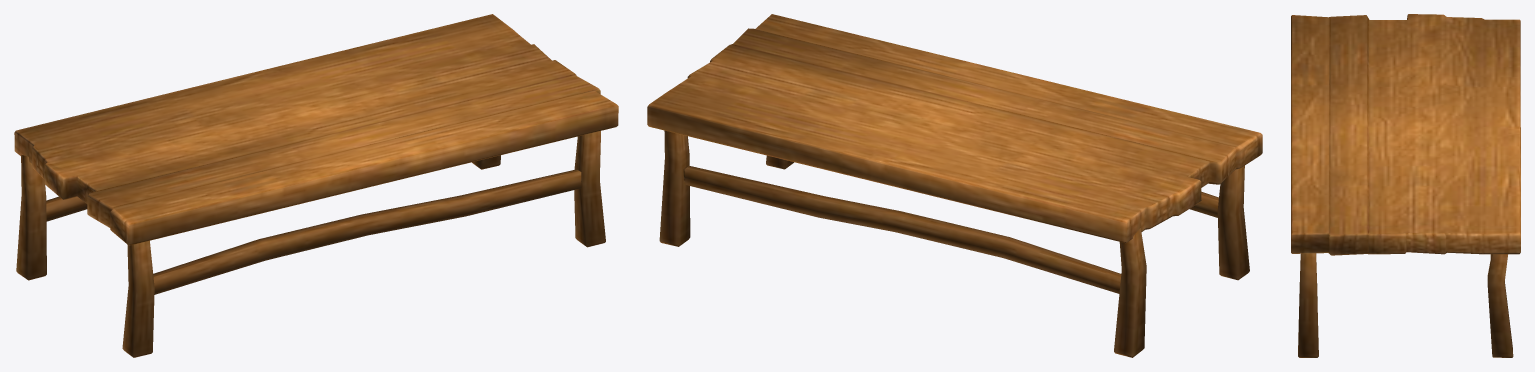
File: SM_Stylized_Table_B.glb
3 renders of one model, left to right at view 1: azimuth 30°, elevation 25°; view 2: azimuth 150°, elevation 25°; view 3: azimuth 270°, elevation 25°, orthographic. The views are drawn at different scales.
Parts seen in each view (by area): view 1: SM_Stylized_Table_B; view 2: SM_Stylized_Table_B; view 3: SM_Stylized_Table_B.
Boxes of the visible parts, x1=… form: SM_Stylized_Table_B: x1=14, y1=14, x2=618, y2=357; SM_Stylized_Table_B: x1=647, y1=14, x2=1262, y2=357; SM_Stylized_Table_B: x1=1291, y1=14, x2=1520, y2=357.
Size of the model in its own units: 3.46 by 0.9321 by 1.51.
Materials: 1 (1 with a texture image).
